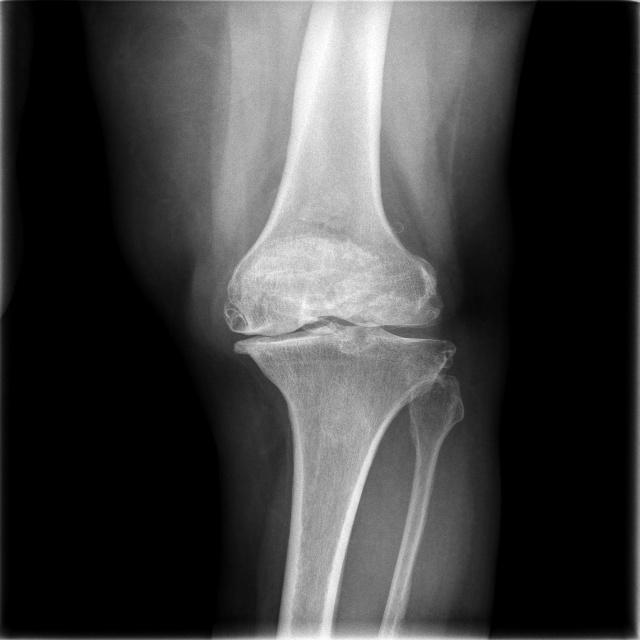Knee: (219, 260, 457, 392), (457, 390, 472, 399)
